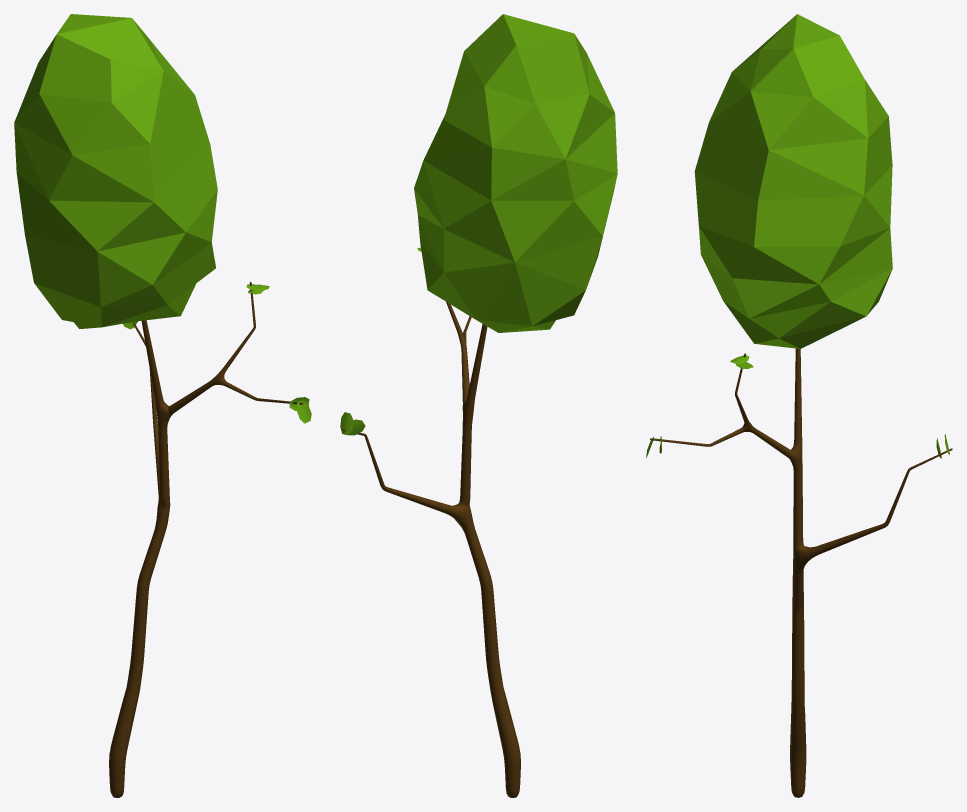
File: LittleTreeMK3.fbx
The picture shows the model from 3 angles, left to right: view 1: azimuth 30°, elevation 25°; view 2: azimuth 150°, elevation 25°; view 3: azimuth 270°, elevation 25°; orthographic projection. The views are drawn at different scales.
Visible parts, largest first — view 1: LeavesMK4, Cube; view 2: LeavesMK4, Cube; view 3: LeavesMK4, Cube.
Part boxes in pixels (x1,y1,x2,y2): LeavesMK4: [14, 14, 217, 328]; Cube: [109, 282, 303, 797]; LeavesMK4: [414, 14, 617, 332]; Cube: [342, 302, 520, 797]; LeavesMK4: [694, 14, 892, 348]; Cube: [650, 348, 952, 797].
Bounding box in the file's own units: 143 × 500 × 184.
